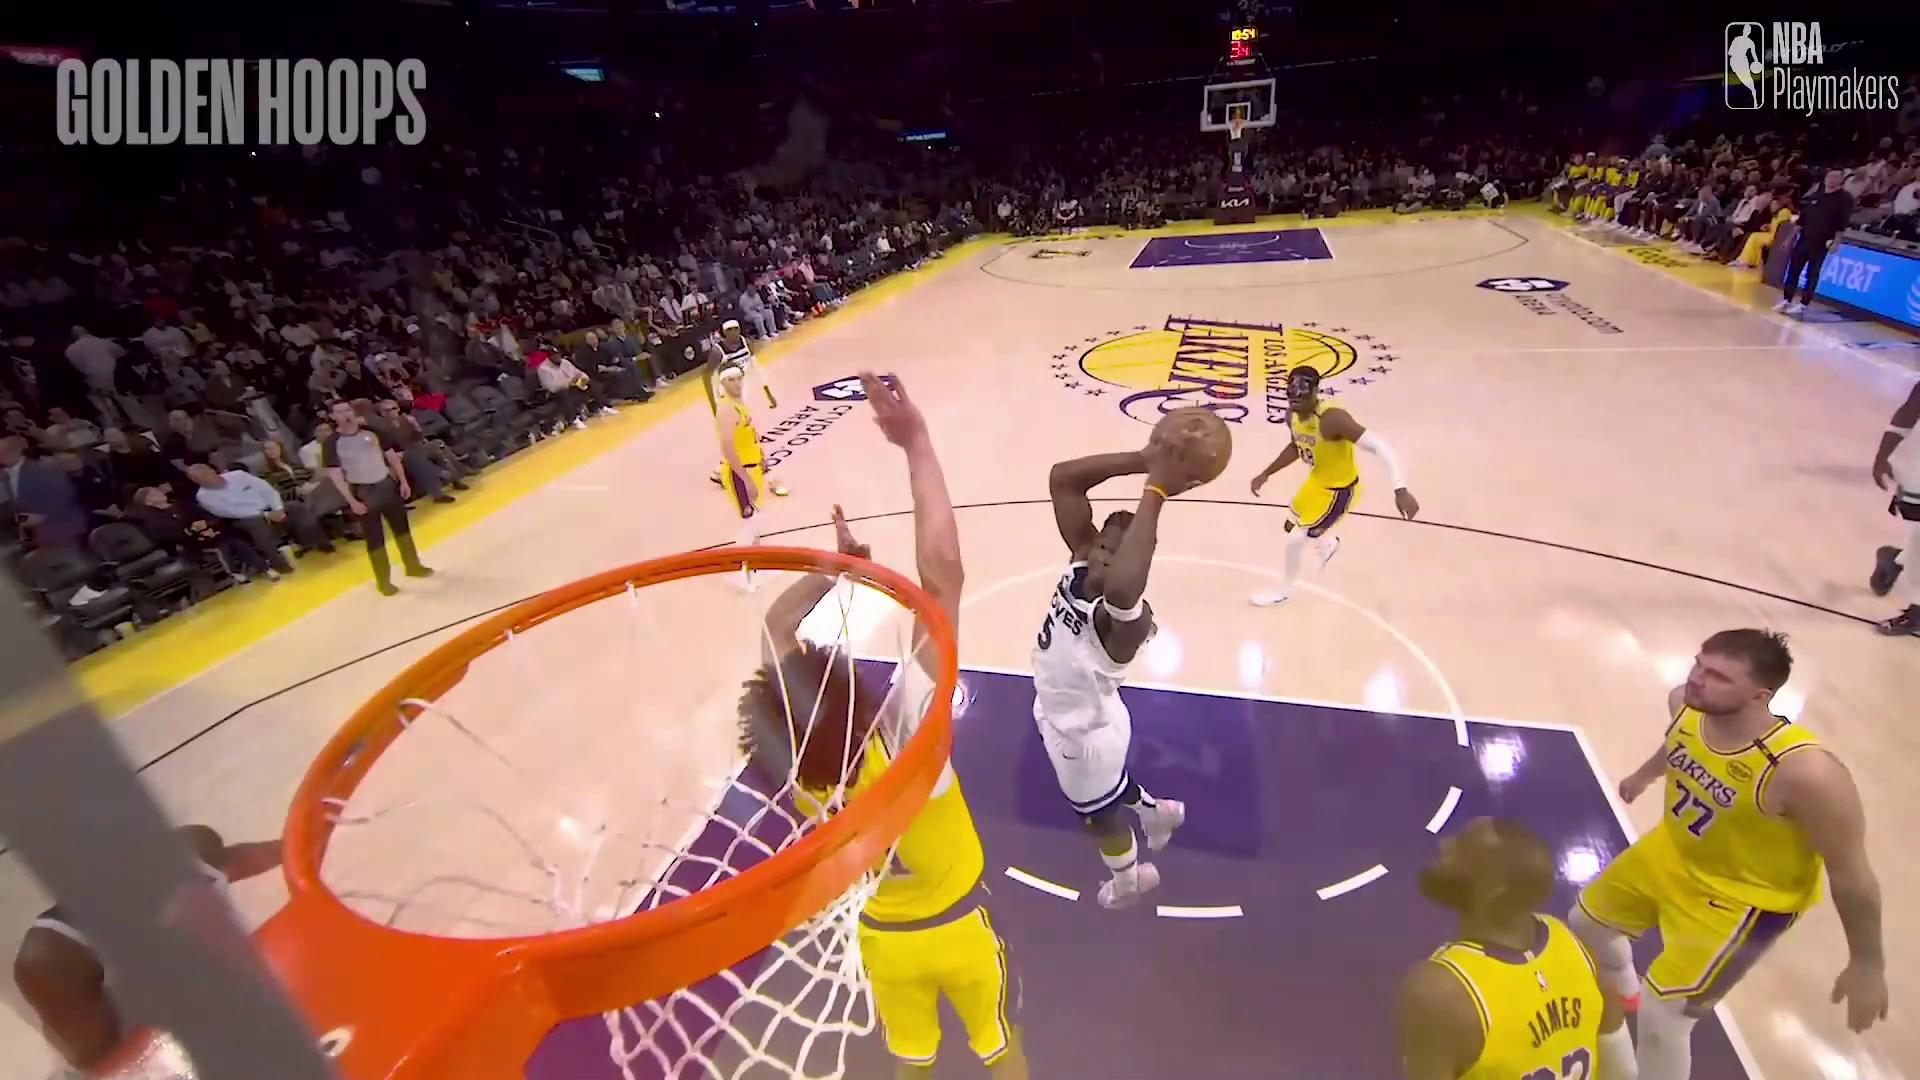ball: (1147, 409, 1230, 488)
hoop: (222, 527, 1014, 1013), (1228, 113, 1247, 141)
